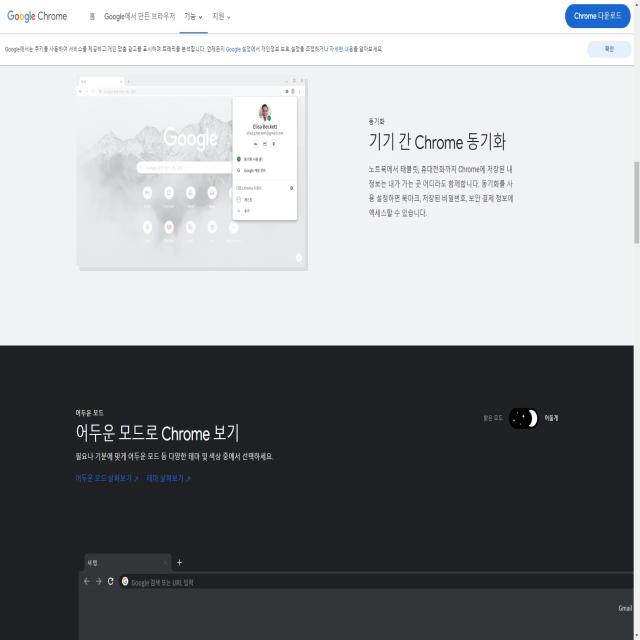menu-bar: (86, 2, 237, 33)
